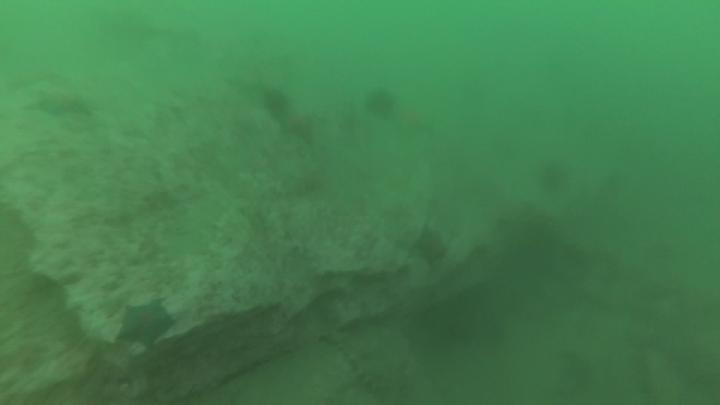echinus: (535, 158, 573, 197), (362, 86, 400, 122), (259, 85, 293, 122)
holothurian: (334, 331, 399, 400)
starfish: (116, 296, 178, 350), (23, 86, 94, 122), (410, 222, 452, 270), (274, 103, 319, 145)
